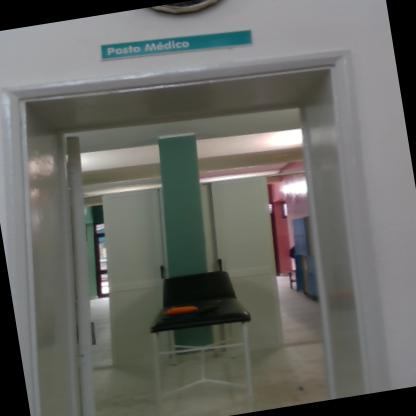open: (21, 38, 404, 415)
